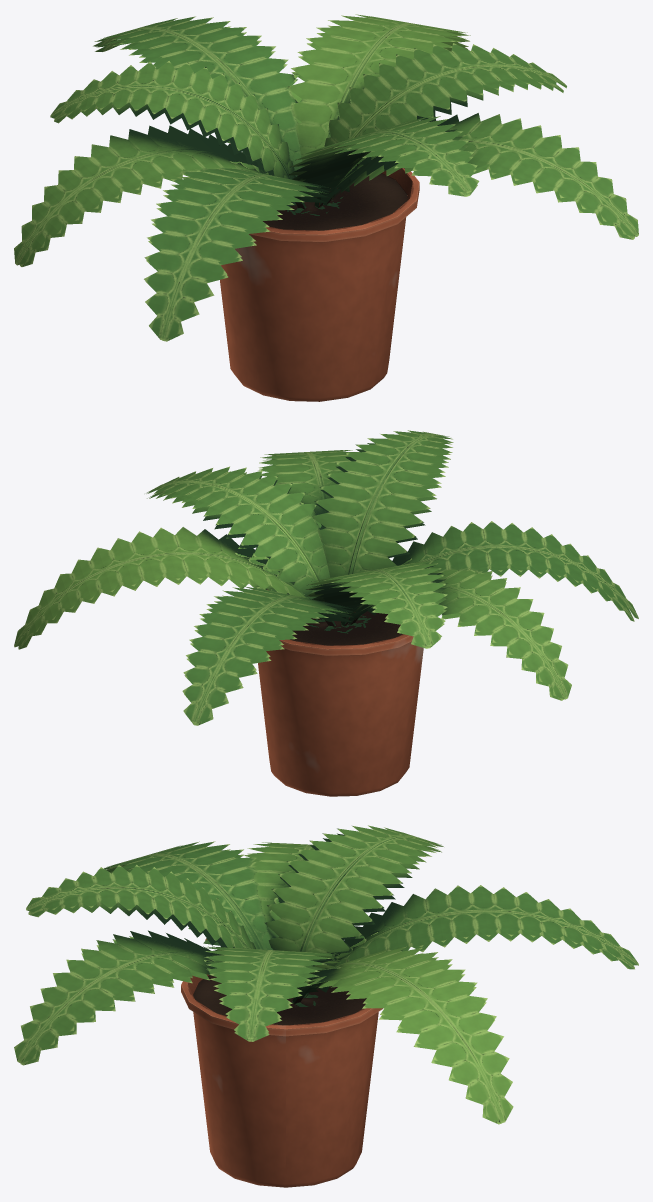
Rendered from Plant_Fern_01.glb.
3 renders of one model, top to bottom at view 1: azimuth 30°, elevation 25°; view 2: azimuth 150°, elevation 25°; view 3: azimuth 270°, elevation 25°, orthographic. The views are drawn at different scales.
Parts seen in each view (by area): view 1: Plant_Fern_01; view 2: Plant_Fern_01; view 3: Plant_Fern_01.
Boxes of the visible parts, x1,y1,x2,y2 form: Plant_Fern_01: (14, 14, 638, 401); Plant_Fern_01: (14, 430, 638, 796); Plant_Fern_01: (14, 825, 638, 1187).
Bounding box in the file's own units: 0.5247 × 0.273 × 0.5597.
Materials: 1 (1 with a texture image).
